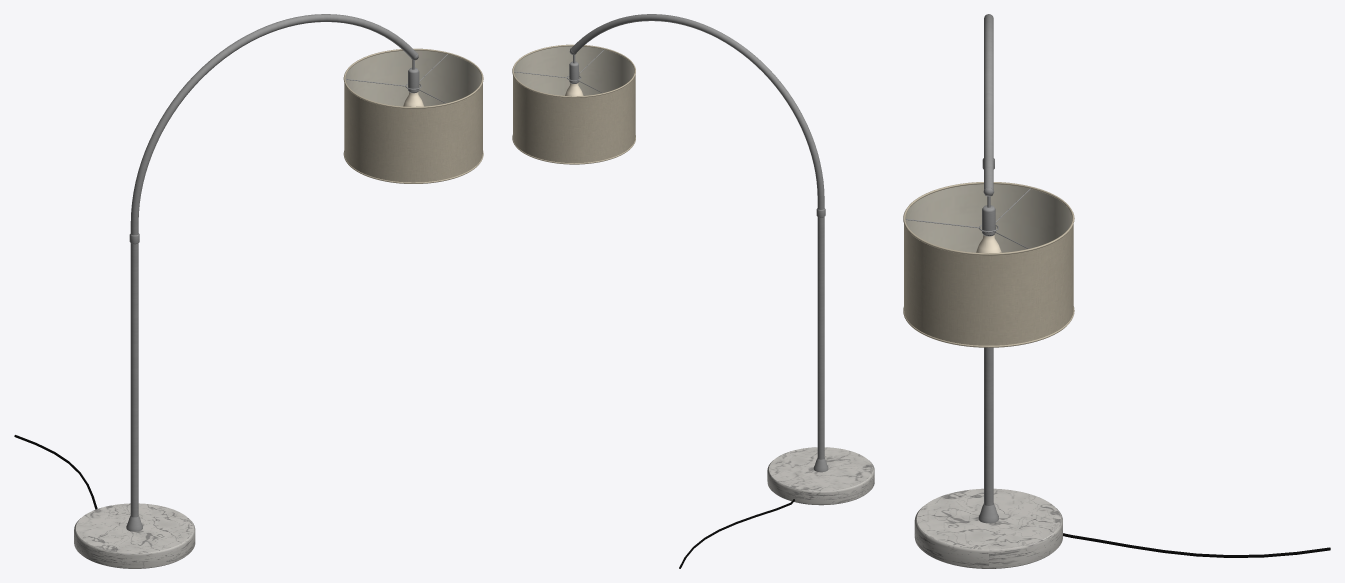
File: arc_floor_lamp.obj
3 renders of one model, left to right at view 1: azimuth 30°, elevation 25°; view 2: azimuth 150°, elevation 25°; view 3: azimuth 270°, elevation 25°, orthographic. The views are drawn at different scales.
Bounding box in the file's own units: 1.31 × 1.55 × 1.01.
Materials: 2 (1 with a texture image).
